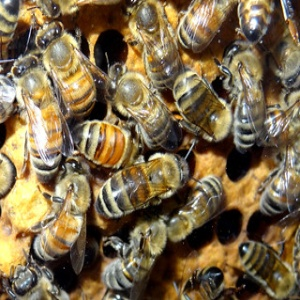bee: (106, 52, 184, 152), (12, 51, 68, 185), (33, 158, 90, 278), (38, 22, 99, 117), (102, 217, 168, 293), (227, 38, 265, 158), (238, 239, 300, 300)
